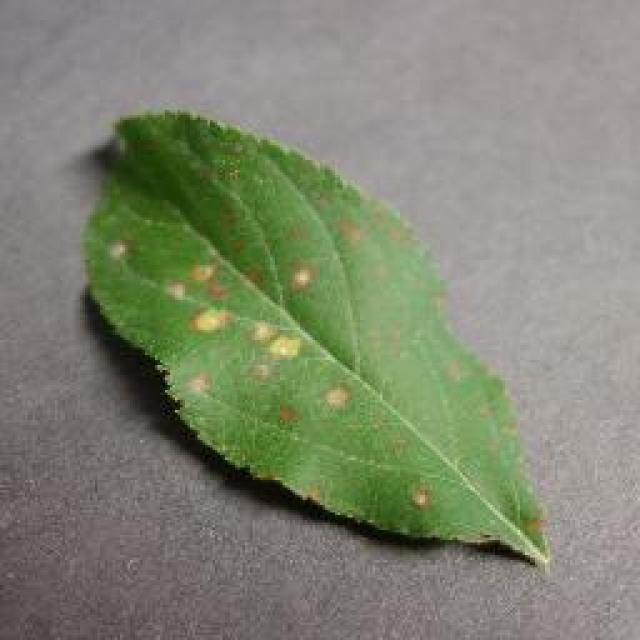apple cedar apple rust: (80, 105, 552, 570)
